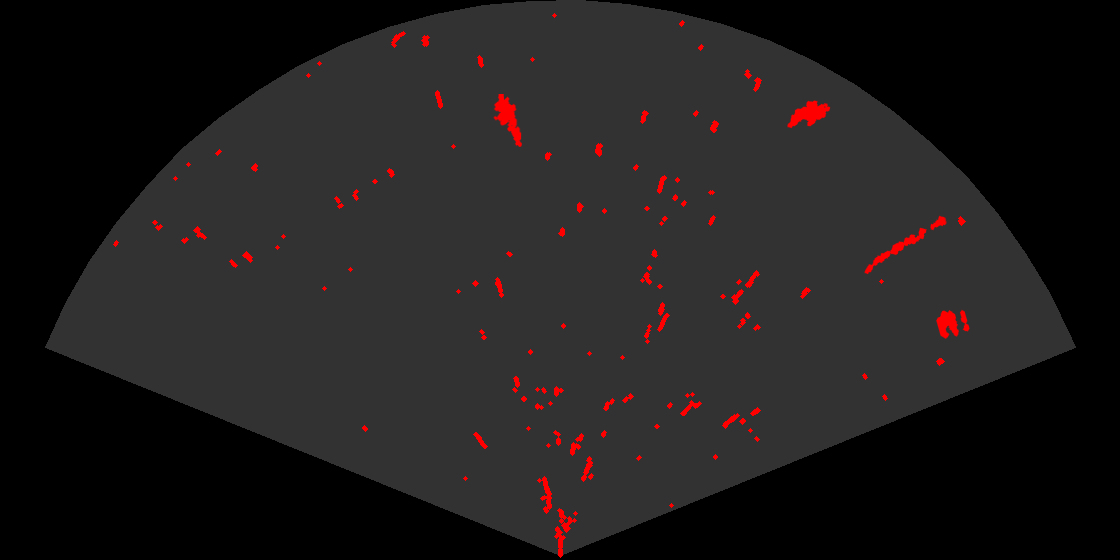AUV: (786, 99, 832, 130)
ball: (935, 308, 971, 341)
chain: (863, 214, 948, 276)
frogman: (492, 94, 524, 147)
